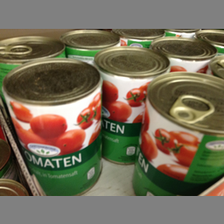tomato_sauce: (1, 57, 105, 195), (131, 70, 224, 195), (95, 46, 170, 163)
